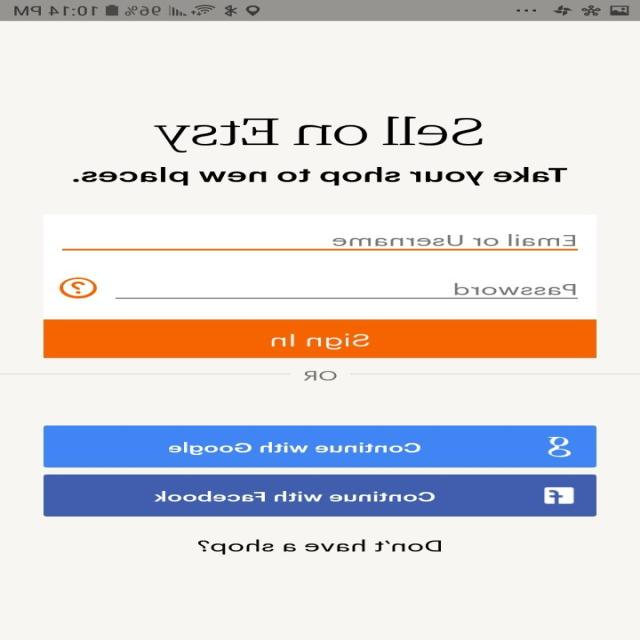EditText: (62, 234, 579, 251), (116, 282, 578, 300)
Icon: (60, 276, 98, 298)
Text: (154, 116, 484, 153), (73, 167, 568, 186), (198, 539, 442, 554), (332, 233, 576, 246), (454, 282, 576, 296), (304, 370, 339, 380)
TextButton: (45, 426, 598, 468), (45, 474, 598, 516), (44, 319, 596, 358)
